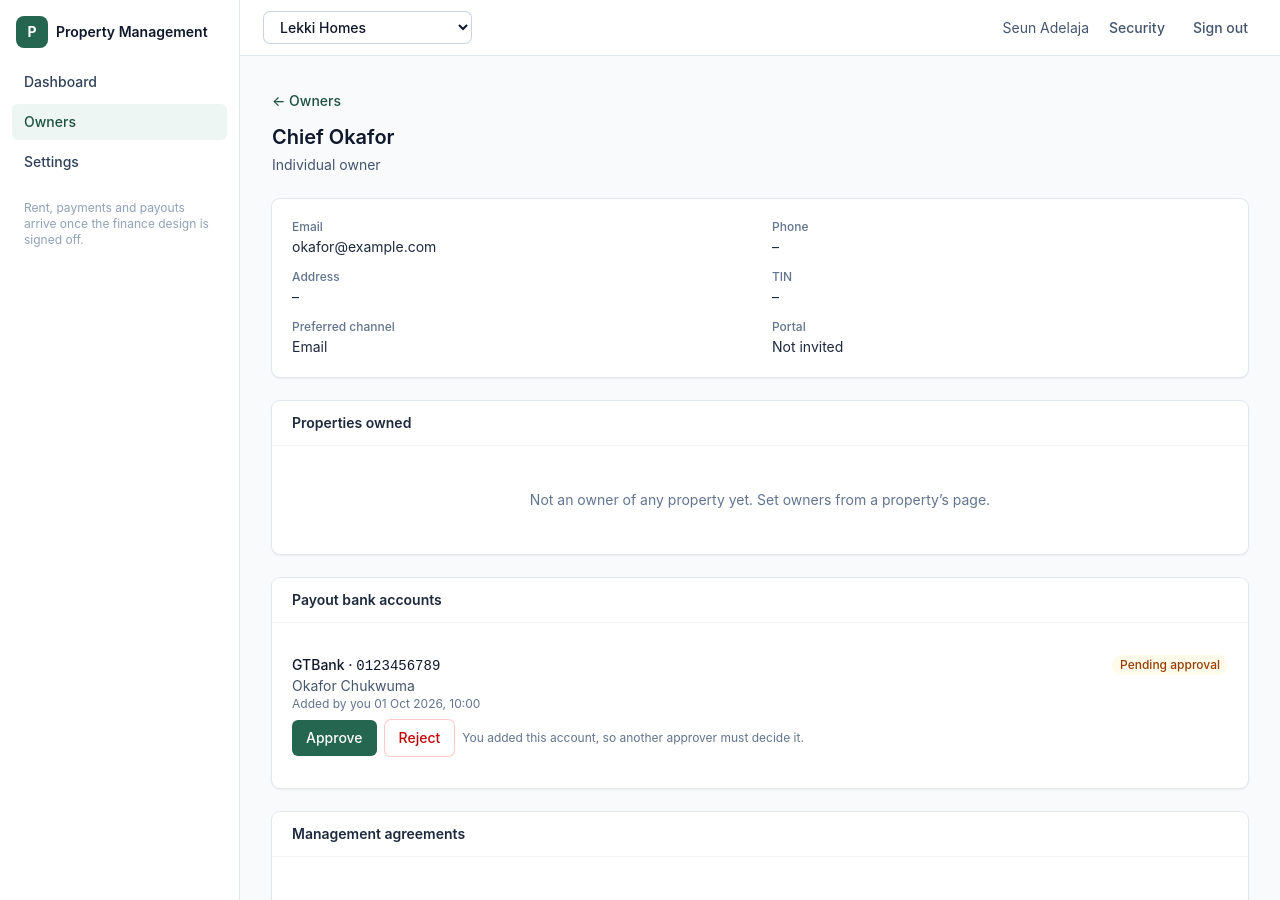
owner bank accounts › explains the maker-checker refusal when the person who added the account approves it
The image size is (1280, 900).
Expected: the text "You added this account, so another approver must decide it." is shown, [462,730,804,746]
What coordinates should you click on to do the following:
click the button "Approve"
I would click on:
 (334, 738)
Its box is [292,720,377,756].
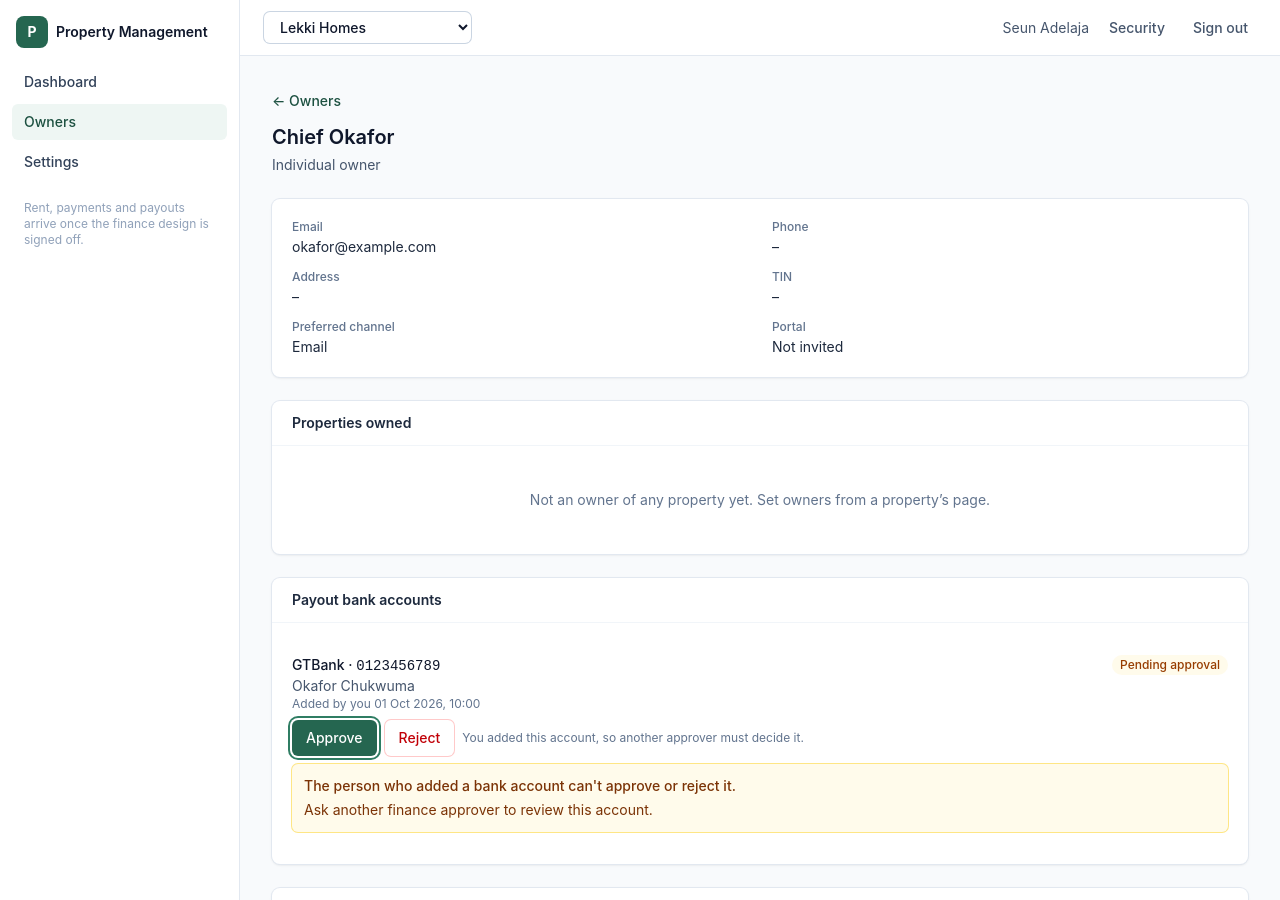
Expected: the message shows "The person who added a bank account can't approve or reject it.", [304,777,736,794]
Expected: the message shows "Ask another finance approver", [304,801,653,818]
